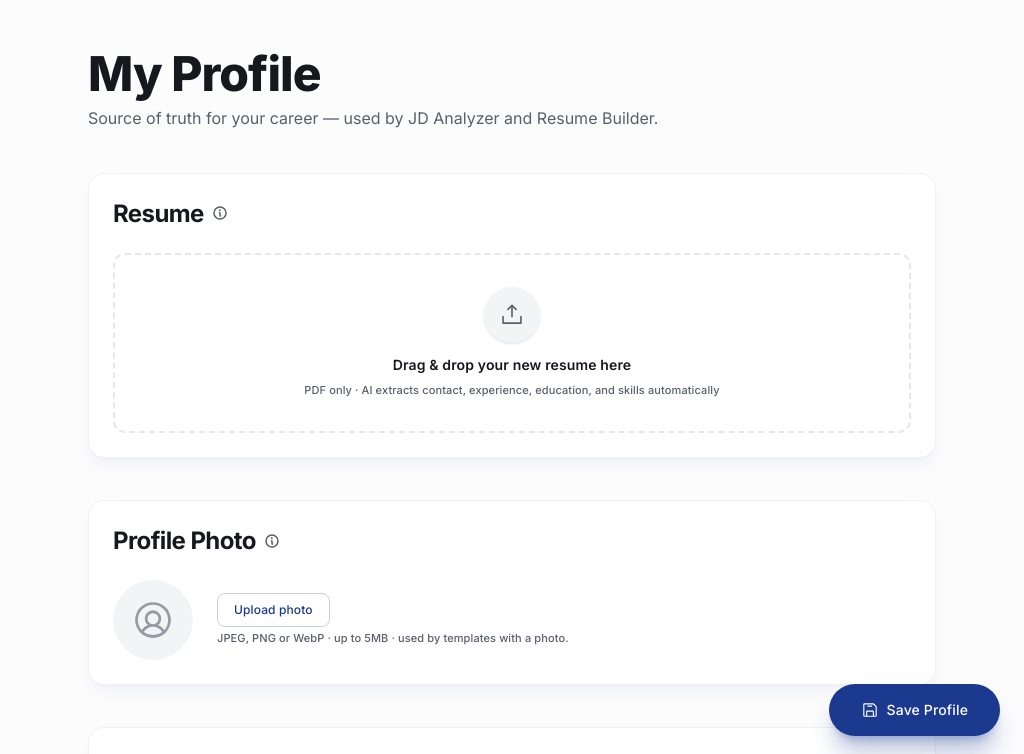
Test: My Profile — every résumé section › shows an uploaded summary past 80 words whole, and won't save it until it's trimmed
Click the button "Save Profile" at (914, 710), box left=829, top=684, right=1000, bottom=736
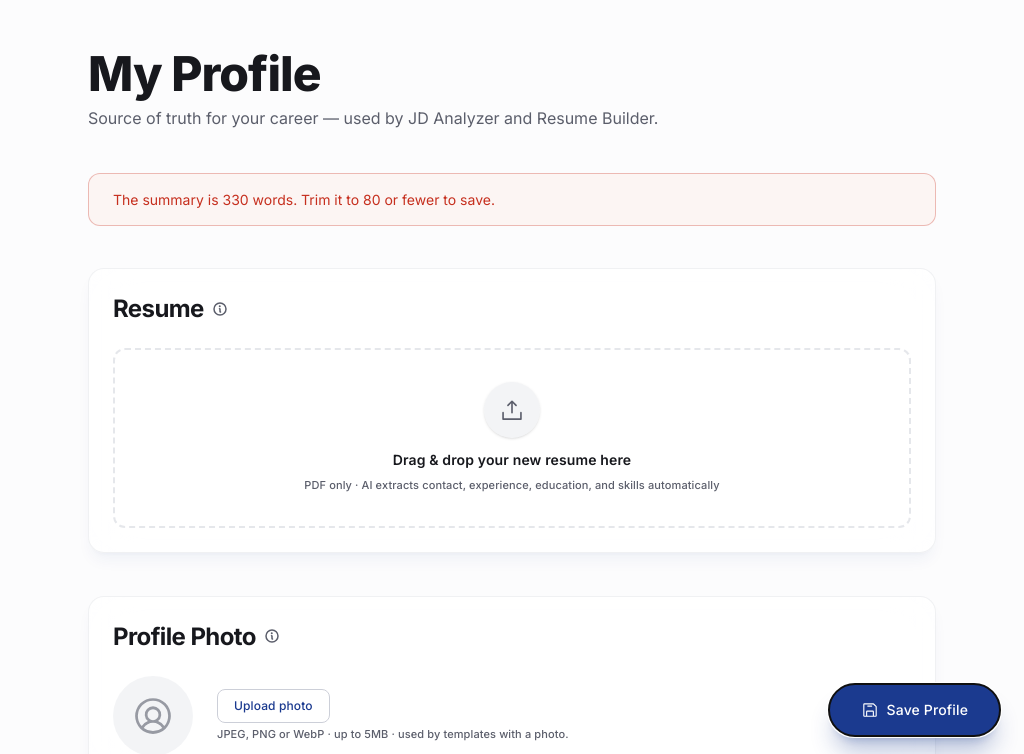
Expected: the text "The summary is 330 words. Trim it to 80 or fewer to save." is shown, left=88, top=173, right=936, bottom=226
